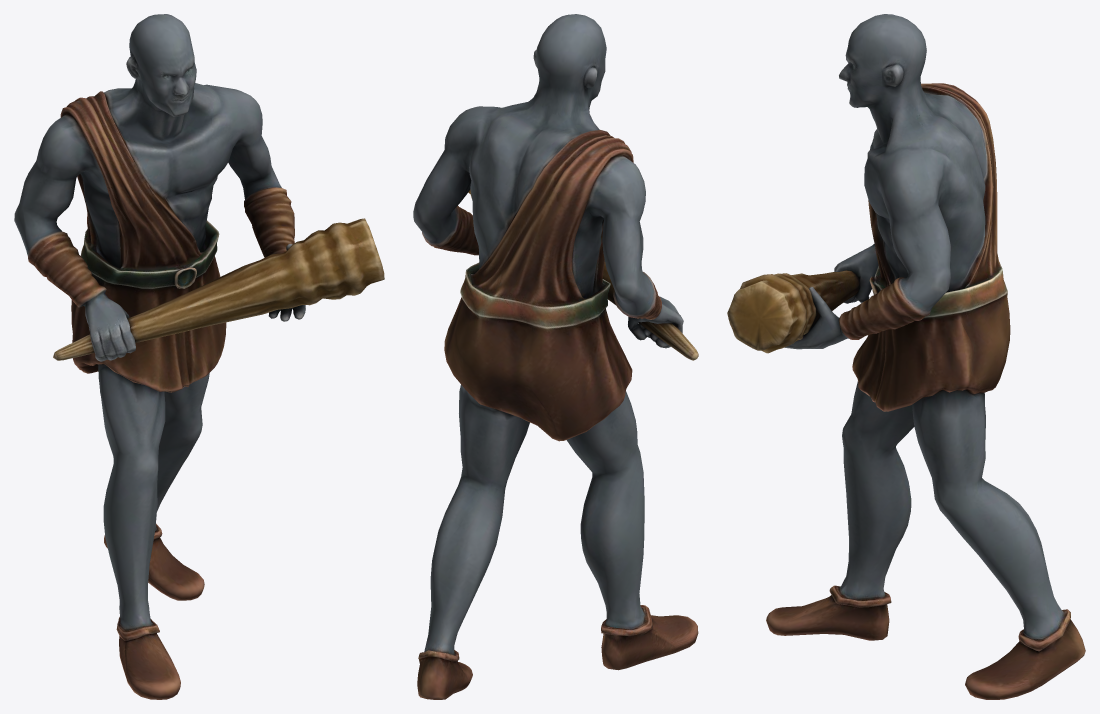
File: MZ4250 - Stone Giant (Male).glb
3 renders of one model, left to right at view 1: azimuth 30°, elevation 25°; view 2: azimuth 150°, elevation 25°; view 3: azimuth 270°, elevation 25°, orthographic. The views are drawn at different scales.
Visible parts, largest first — view 1: Stone_Giant_Male; view 2: Stone_Giant_Male; view 3: Stone_Giant_Male.
Boxes of the visible parts, box(x1,y1,x2,y2) form: Stone_Giant_Male: box(14, 14, 384, 699); Stone_Giant_Male: box(413, 14, 698, 699); Stone_Giant_Male: box(727, 14, 1085, 699).
Bounding box in the file's own units: 0.6295 × 1.37 × 0.693.
1 material, 1 textured.
